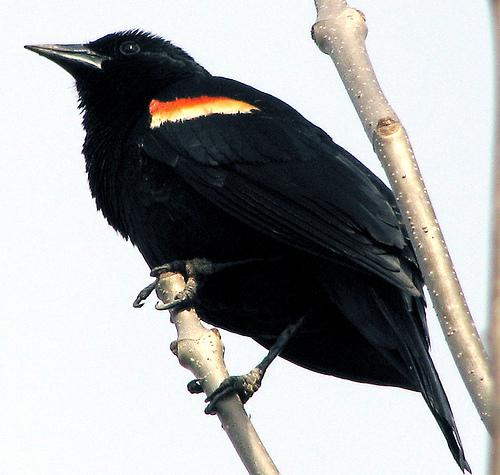010.Red_winged_Blackbird: (22, 27, 473, 475)
